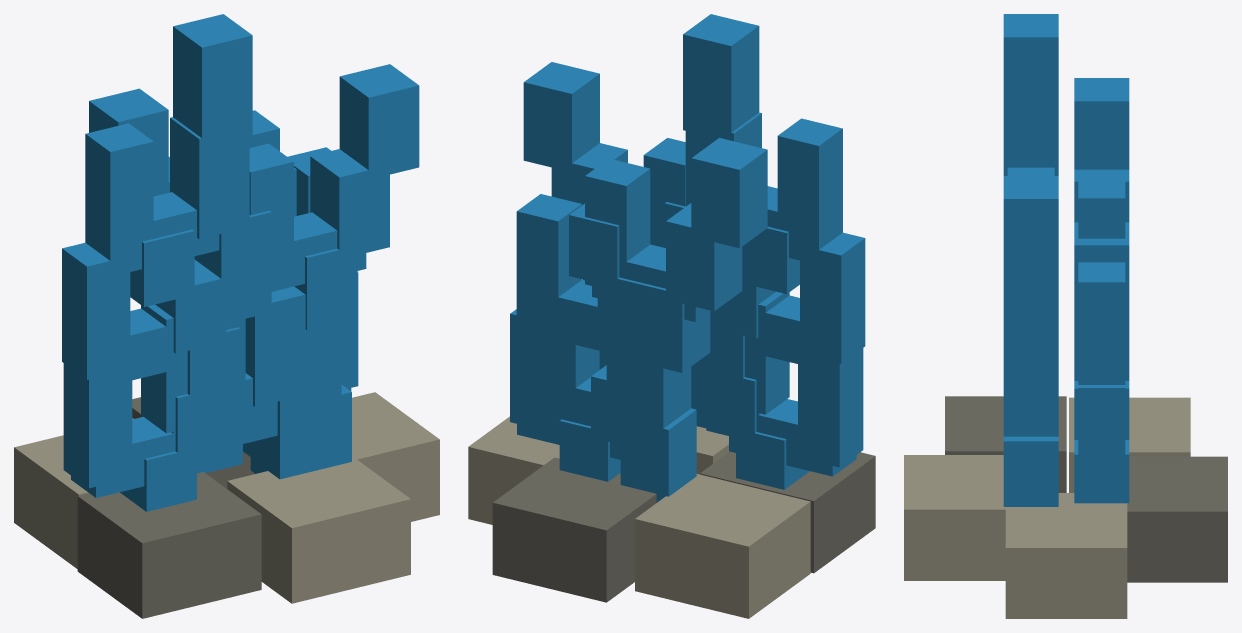
The model's file is coral_kit__coral_3.glb.
The picture shows the model from 3 angles, left to right: view 1: azimuth 30°, elevation 25°; view 2: azimuth 150°, elevation 25°; view 3: azimuth 270°, elevation 25°; orthographic projection. The views are drawn at different scales.
Parts seen in each view (by area): view 1: coral_3__ocean2.001, coral_3__stone.001, coral_3__stone_dark.001; view 2: coral_3__ocean2.001, coral_3__stone.001, coral_3__stone_dark.001; view 3: coral_3__ocean2.001, coral_3__stone.001, coral_3__stone_dark.001.
Boxes of the visible parts, x1,y1,x2,y2 form: coral_3__ocean2.001: (62,14,419,511); coral_3__stone.001: (14,392,439,603); coral_3__stone_dark.001: (77,397,261,618); coral_3__ocean2.001: (510,14,865,502); coral_3__stone.001: (468,416,810,618); coral_3__stone_dark.001: (492,451,875,602); coral_3__ocean2.001: (1003,14,1129,506); coral_3__stone.001: (904,397,1190,618); coral_3__stone_dark.001: (945,396,1227,582).
Size of the model in its own units: 0.9739 by 1.39 by 0.8251.
